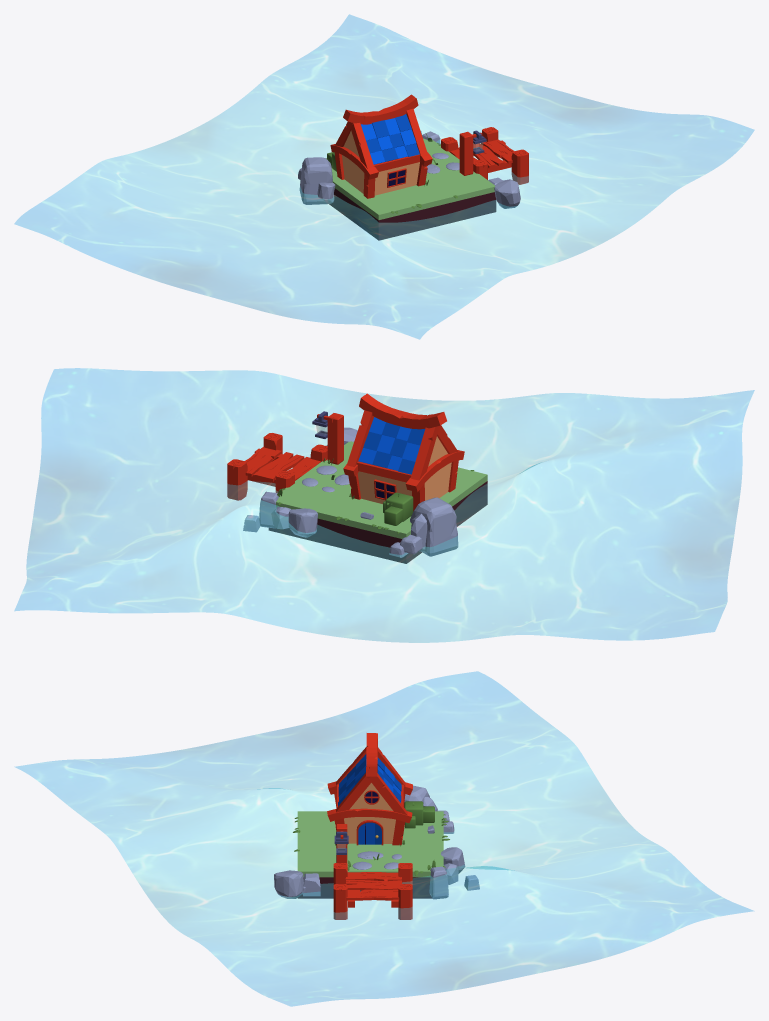
File: casa.glb
3 views of the same model, one above another, from view 1: azimuth 30°, elevation 25°; view 2: azimuth 150°, elevation 25°; view 3: azimuth 270°, elevation 25° (orthographic). The views are drawn at different scales.
Parts seen in each view (by area): view 1: Sea, Base, PAREDES, Cubo.056, Cubo.004, Cubo.102, Cubo.046, Cubo.045; view 2: Sea, Base, Cubo.056, PAREDES, Cubo.004, Cubo.046, Cubo, Cubo.055, Cubo.006, Cubo.041, Cubo.026, Cubo.005 (+4 smaller); view 3: Sea, Base, PAREDES, Cubo.102, Cubo.001, puerta, Cubo.038, Cubo.052.
Boxes of the visible parts, bbox=[...] form: Sea: bbox=[14, 14, 754, 339]; Base: bbox=[329, 138, 496, 240]; PAREDES: bbox=[342, 130, 419, 195]; Cubo.056: bbox=[299, 157, 334, 204]; Cubo.004: bbox=[343, 94, 418, 124]; Cubo.102: bbox=[494, 179, 520, 208]; Cubo.046: bbox=[459, 131, 473, 175]; Cubo.045: bbox=[511, 149, 528, 184]; Sea: bbox=[14, 368, 754, 642]; Base: bbox=[268, 441, 487, 563]; Cubo.056: bbox=[410, 497, 458, 556]; PAREDES: bbox=[357, 436, 451, 503]; Cubo.004: bbox=[359, 393, 446, 429]; Cubo.046: bbox=[327, 413, 343, 464]; Cubo: bbox=[227, 459, 247, 500]; Cubo.055: bbox=[288, 508, 317, 537]; Cubo.006: bbox=[410, 426, 439, 480]; Cubo.041: bbox=[255, 452, 304, 481]; Cubo.026: bbox=[405, 450, 464, 492]; Cubo.005: bbox=[347, 410, 373, 466]; Sea: bbox=[15, 671, 752, 1006]; Base: bbox=[297, 811, 443, 898]; PAREDES: bbox=[344, 783, 395, 843]; Cubo.102: bbox=[274, 870, 303, 898]; Cubo.001: bbox=[327, 808, 412, 823]; puerta: bbox=[356, 820, 383, 845]; Cubo.038: bbox=[346, 889, 399, 900]; Cubo.052: bbox=[429, 866, 448, 899].
Bounding box in the file's own units: 70.84 × 10.61 × 66.1.
13 materials, 1 textured.
